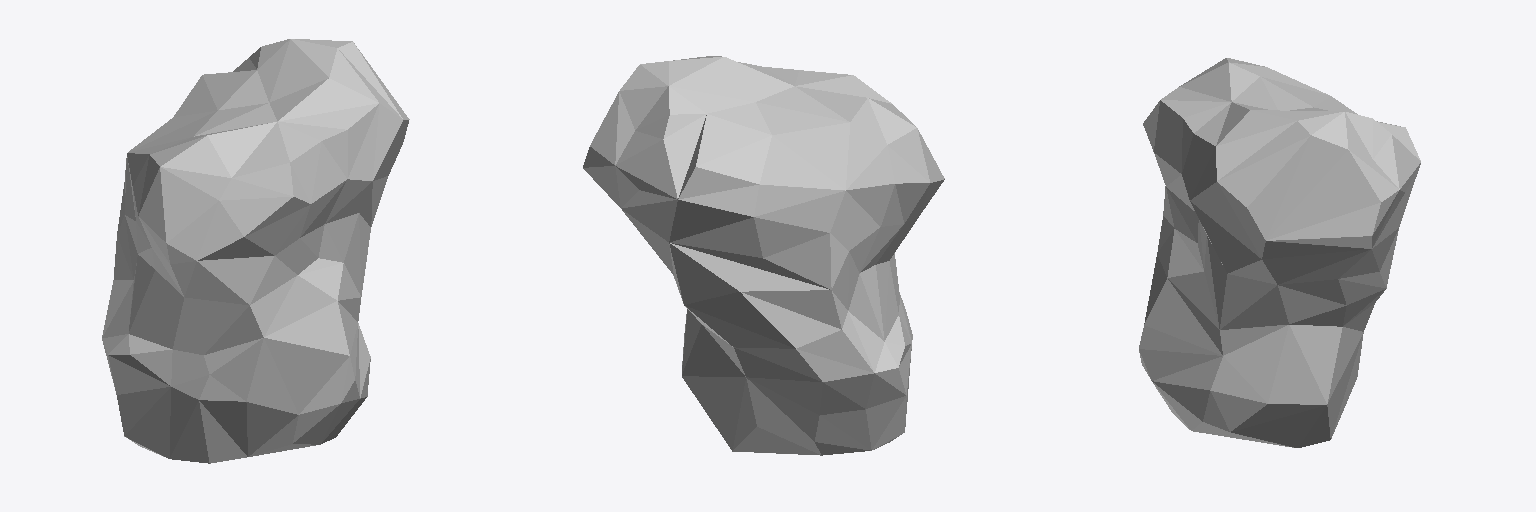
Rendered from Rock2_LowPolyMesh.obj.
The picture shows the model from 3 angles: view 1: azimuth 30°, elevation 25°; view 2: azimuth 150°, elevation 25°; view 3: azimuth 270°, elevation 25°; orthographic projection.
Parts seen in each view (by area): view 1: rock2_LowPolyMesh; view 2: rock2_LowPolyMesh; view 3: rock2_LowPolyMesh.
Boxes of the visible parts, x1=… form: rock2_LowPolyMesh: x1=102, y1=39, x2=409, y2=463; rock2_LowPolyMesh: x1=583, y1=56, x2=944, y2=455; rock2_LowPolyMesh: x1=1139, y1=58, x2=1420, y2=447.
Size of the model in its own units: 2.03 by 2.48 by 1.77.